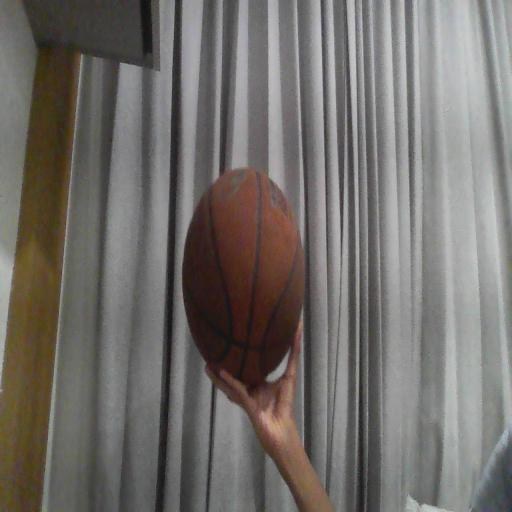basketball: (182, 169, 304, 385)
